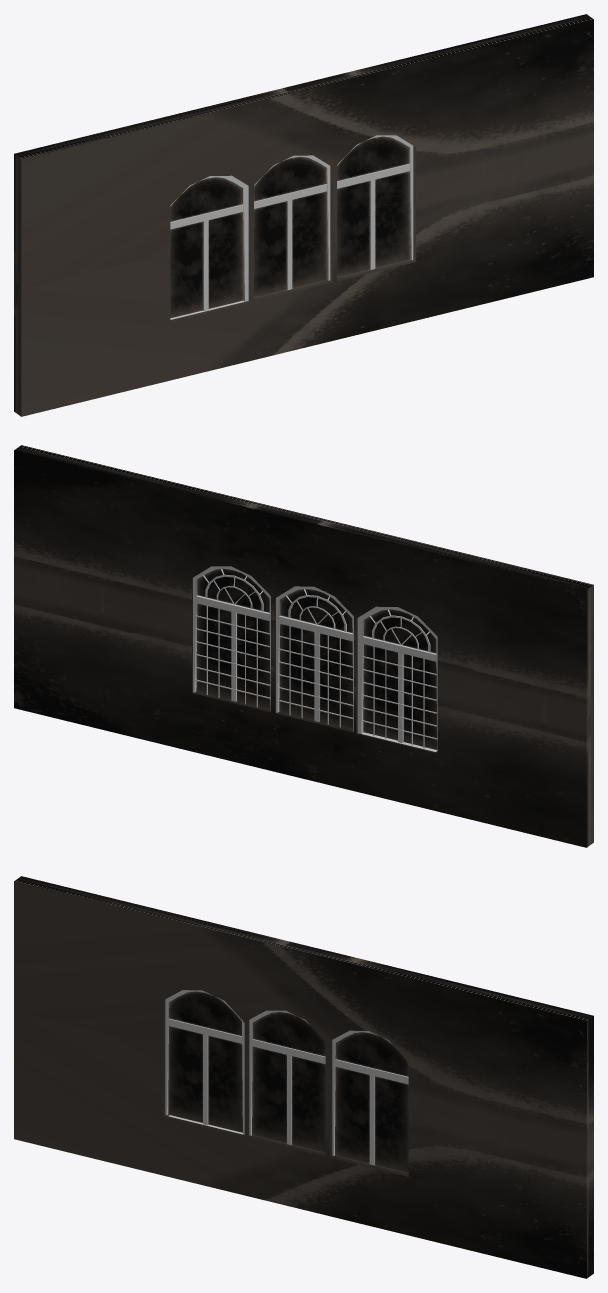
File: wall_wnidow.fbx
3 views of the same model, one above another, from view 1: azimuth 30°, elevation 25°; view 2: azimuth 150°, elevation 25°; view 3: azimuth 330°, elevation 25° (orthographic).
Visible parts, largest first — view 1: Cube, glass.001, glass, glass.002, win.001, win, win.002; view 2: Cube, glass, glass.001, glass.002, win.001, win, win.002, Object009, Object009.001, Object009.002; view 3: Cube, glass.001, glass.002, glass, win.001, win.002, win.
Part boxes in pixels (x1=…): Cube: x1=14, y1=14, x2=593, y2=416; glass.001: x1=170, y1=177, x2=243, y2=318; glass: x1=254, y1=156, x2=327, y2=297; glass.002: x1=337, y1=136, x2=410, y2=277; win.001: x1=170, y1=175, x2=248, y2=319; win: x1=254, y1=155, x2=330, y2=289; win.002: x1=337, y1=135, x2=413, y2=269; Cube: x1=14, y1=445, x2=593, y2=847; glass: x1=279, y1=589, x2=353, y2=729; glass.001: x1=363, y1=609, x2=437, y2=749; glass.002: x1=196, y1=568, x2=270, y2=709; win.001: x1=357, y1=606, x2=437, y2=751; win: x1=276, y1=586, x2=353, y2=731; win.002: x1=193, y1=566, x2=270, y2=710; Object009: x1=278, y1=589, x2=353, y2=727; Object009.001: x1=362, y1=609, x2=436, y2=748; Object009.002: x1=195, y1=569, x2=270, y2=707; Cube: x1=14, y1=876, x2=593, y2=1278; glass.001: x1=168, y1=991, x2=242, y2=1132; glass.002: x1=335, y1=1032, x2=408, y2=1173; glass: x1=252, y1=1012, x2=325, y2=1152; win.001: x1=165, y1=990, x2=244, y2=1134; win.002: x1=332, y1=1030, x2=408, y2=1165; win: x1=249, y1=1010, x2=325, y2=1145.
Size of the model in its own units: 8960 by 3853 by 200.
